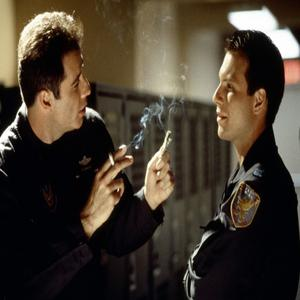cigarette: (106, 153, 119, 173)
